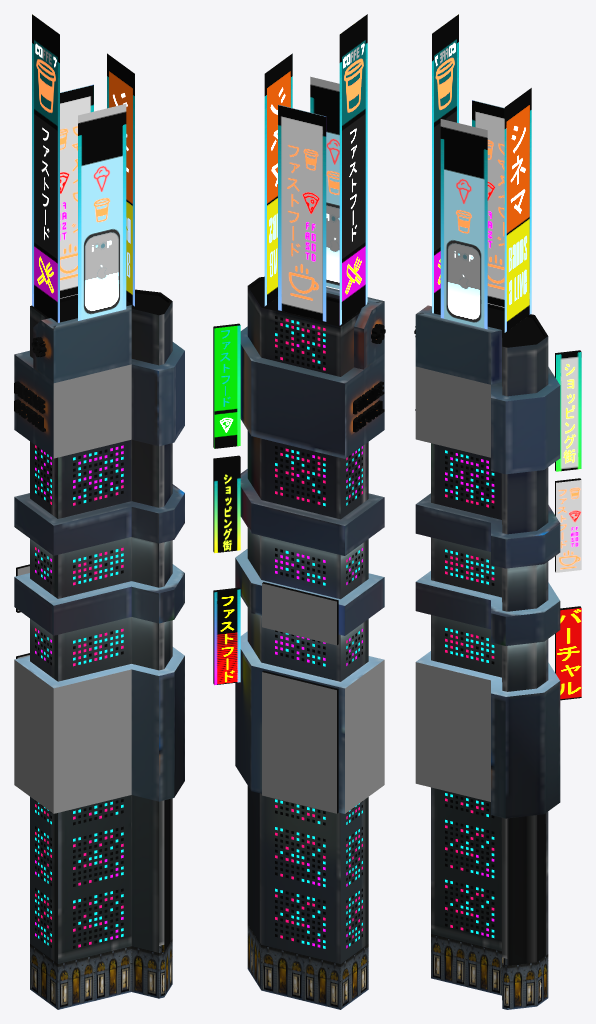
The model's file is BLD1310016.fbx.
The picture shows the model from 3 angles, left to right: view 1: azimuth 30°, elevation 25°; view 2: azimuth 150°, elevation 25°; view 3: azimuth 330°, elevation 25°; orthographic projection. The views are drawn at different scales.
Visible parts, largest first — view 1: smBLD1310016; view 2: smBLD1310016; view 3: smBLD1310016.
Boxes of the visible parts, x1,y1,x2,y2 form: smBLD1310016: [14, 14, 184, 1009]; smBLD1310016: [213, 14, 385, 1009]; smBLD1310016: [414, 14, 581, 1009].
Size of the model in its own units: 886 by 5821 by 610.
Materials: 4 (2 with a texture image).
